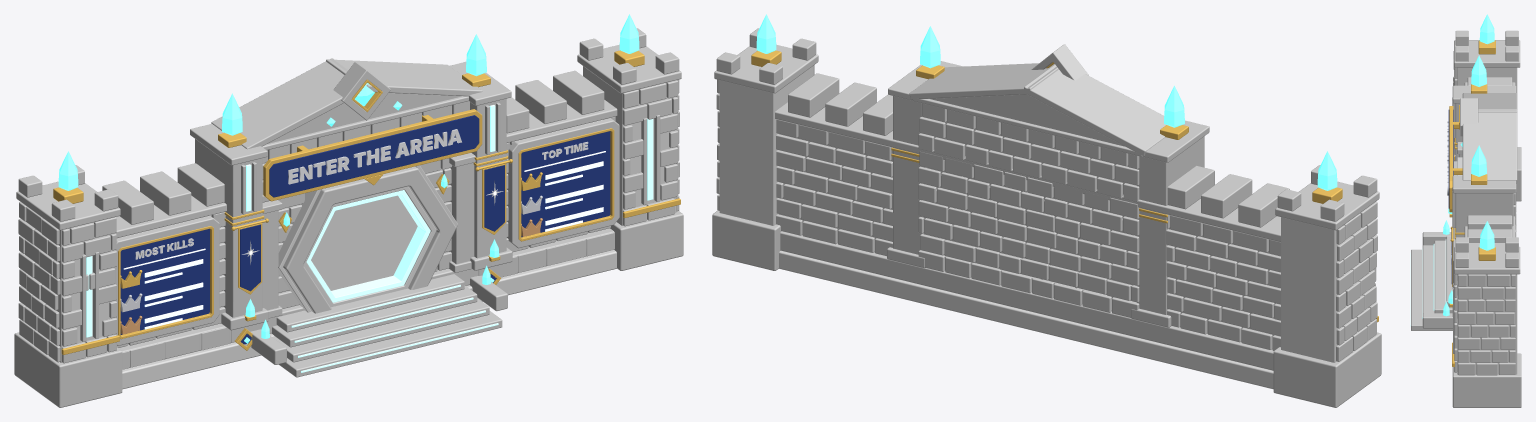
The model's file is Lobby_ArenaGate.fbx.
The picture shows the model from 3 angles, left to right: view 1: azimuth 30°, elevation 25°; view 2: azimuth 150°, elevation 25°; view 3: azimuth 270°, elevation 25°; orthographic projection. The views are drawn at different scales.
Visible parts, largest first — view 1: Lobby_ArenaGate__GateStone_p4, Lobby_ArenaGate__GateStone_p3, Lobby_ArenaGate__NavyCloth, Lobby_ArenaGate__GateStoneJoint, Lobby_ArenaGate__Gold, Lobby_ArenaGate__GateStone_p2, Lobby_ArenaGate__GateStone_p1, Lobby_ArenaGate__NeonCyan, Lobby_ArenaGate__GateCrystal, Lobby_ArenaGate__BoardBar, Lobby_ArenaGate__WhiteEmblem; view 2: Lobby_ArenaGate__GateStone_p3, Lobby_ArenaGate__GateStone_p2, Lobby_ArenaGate__GateStone_p4, Lobby_ArenaGate__GateStoneJoint, Lobby_ArenaGate__GateStone_p1, Lobby_ArenaGate__GateCrystal, Lobby_ArenaGate__Gold; view 3: Lobby_ArenaGate__GateStone_p4, Lobby_ArenaGate__GateStone_p3, Lobby_ArenaGate__GateStoneJoint, Lobby_ArenaGate__GateCrystal, Lobby_ArenaGate__Gold, Lobby_ArenaGate__GateStone_p2, Lobby_ArenaGate__NeonCyan, Lobby_ArenaGate__NavyCloth, Lobby_ArenaGate__WhiteEmblem.
Part boxes in pixels (x1,y1,x2,y2): Lobby_ArenaGate__GateStone_p4: (16,28,683,377); Lobby_ArenaGate__GateStone_p3: (14,58,482,407); Lobby_ArenaGate__NavyCloth: (120,115,610,344); Lobby_ArenaGate__GateStoneJoint: (26,66,676,389); Lobby_ArenaGate__Gold: (53,50,680,354); Lobby_ArenaGate__GateStone_p2: (102,70,617,238); Lobby_ArenaGate__GateStone_p1: (117,116,615,369); Lobby_ArenaGate__NeonCyan: (86,105,653,372); Lobby_ArenaGate__GateCrystal: (58,14,639,343); Lobby_ArenaGate__BoardBar: (123,151,605,329); Lobby_ArenaGate__WhiteEmblem: (135,129,588,264); Lobby_ArenaGate__GateStone_p3: (909,44,1381,407); Lobby_ArenaGate__GateStone_p2: (775,73,1289,350); Lobby_ArenaGate__GateStone_p4: (712,28,1379,361); Lobby_ArenaGate__GateStoneJoint: (719,66,1374,389); Lobby_ArenaGate__GateStone_p1: (780,231,1273,370); Lobby_ArenaGate__GateCrystal: (756,14,1337,190); Lobby_ArenaGate__Gold: (751,50,1378,322); Lobby_ArenaGate__GateStone_p4: (1411,30,1521,407); Lobby_ArenaGate__GateStone_p3: (1460,93,1521,237); Lobby_ArenaGate__GateStoneJoint: (1457,67,1517,374); Lobby_ArenaGate__GateCrystal: (1443,14,1494,316); Lobby_ArenaGate__Gold: (1449,40,1495,366); Lobby_ArenaGate__GateStone_p2: (1464,77,1515,246); Lobby_ArenaGate__NeonCyan: (1410,239,1446,326); Lobby_ArenaGate__NavyCloth: (1448,109,1453,283); Lobby_ArenaGate__WhiteEmblem: (1447,121,1451,264).
Size of the model in its own units: 59.9 by 23.72 by 12.29.
